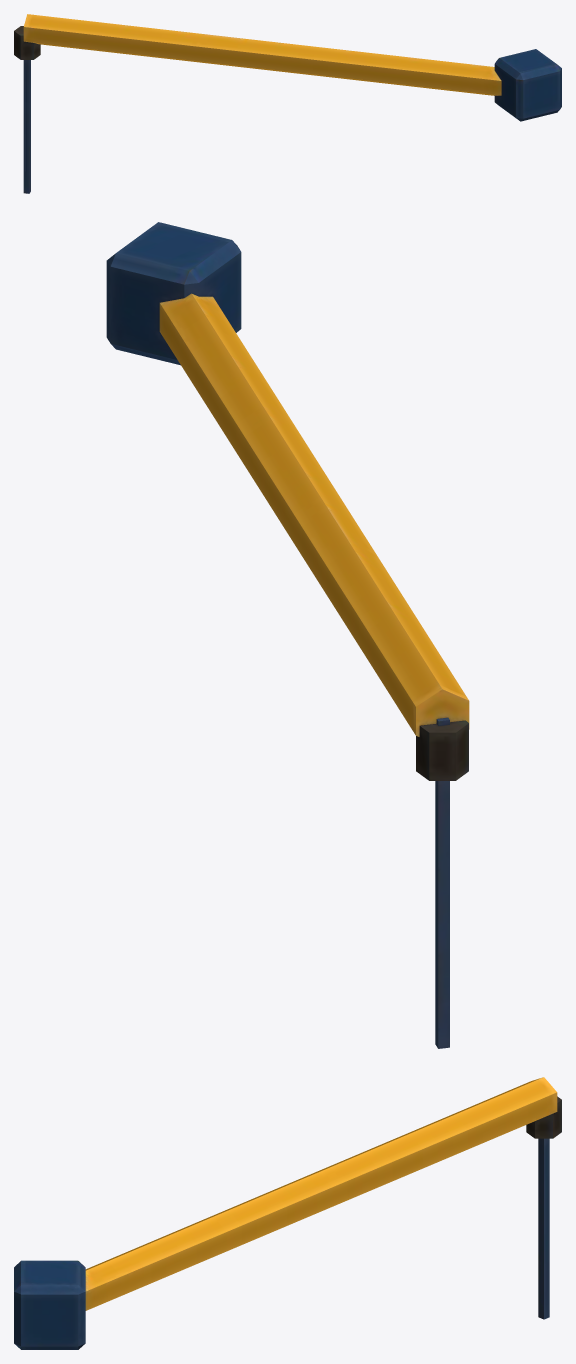
Rendered from site-arm.glb.
3 views of the same model, one above another, from view 1: azimuth 30°, elevation 25°; view 2: azimuth 150°, elevation 25°; view 3: azimuth 270°, elevation 25° (orthographic). The views are drawn at different scales.
Visible parts, largest first — view 1: site-arm; view 2: site-arm; view 3: site-arm.
Part boxes in pixels (bbox=[...]): site-arm: bbox=[14, 14, 561, 193]; site-arm: bbox=[106, 222, 469, 1048]; site-arm: bbox=[14, 1077, 561, 1349].
Bounding box in the file's own units: 0.7617 × 0.39 × 0.765.
Materials: 1 (1 with a texture image).
